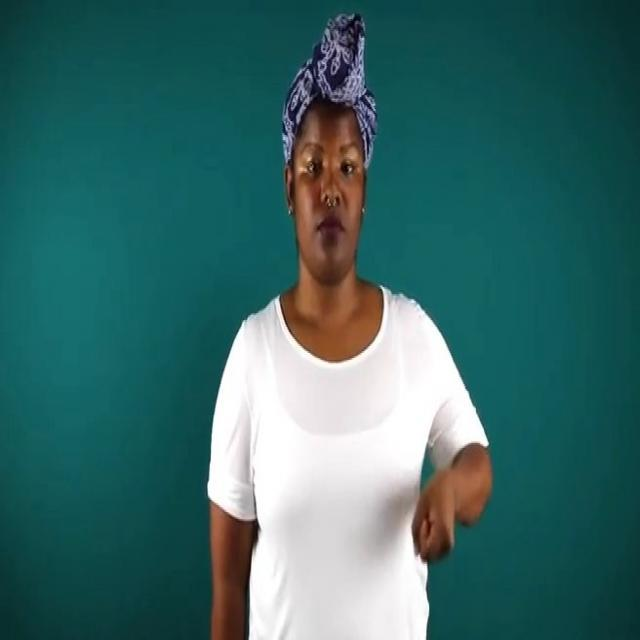bag: (396, 457, 472, 584)
